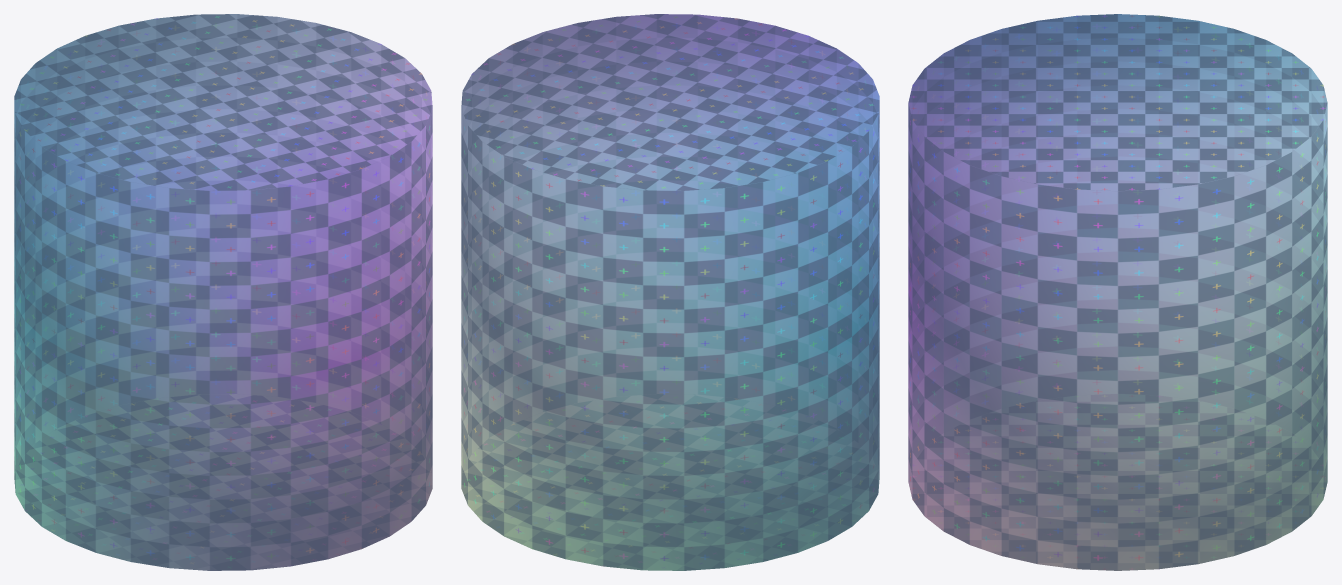
3 renders of one model, left to right at view 1: azimuth 30°, elevation 25°; view 2: azimuth 150°, elevation 25°; view 3: azimuth 270°, elevation 25°, orthographic.
Visible parts, largest first — view 1: Cylinder; view 2: Cylinder; view 3: Cylinder.
Boxes of the visible parts, bbox=[...] form: Cylinder: bbox=[14, 14, 432, 570]; Cylinder: bbox=[461, 14, 879, 570]; Cylinder: bbox=[908, 14, 1327, 570].
Bounding box in the file's own units: 2 × 2 × 2.
1 material, 1 textured.
